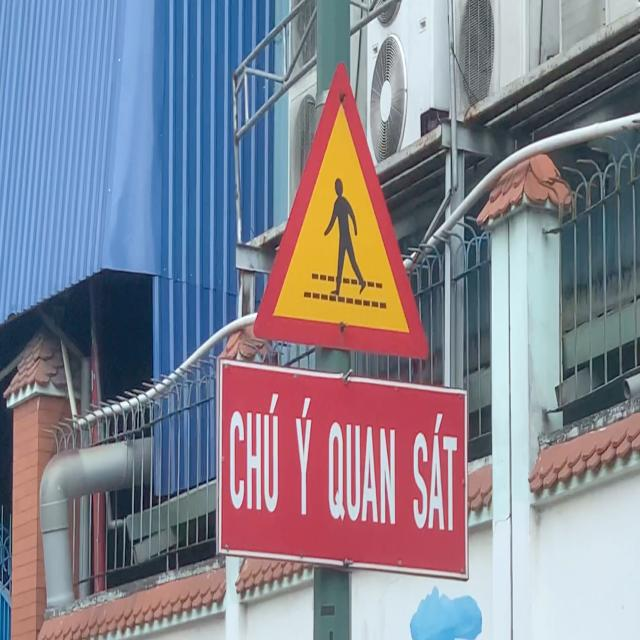Nguoi di bo cat ngang: (252, 59, 430, 363)
